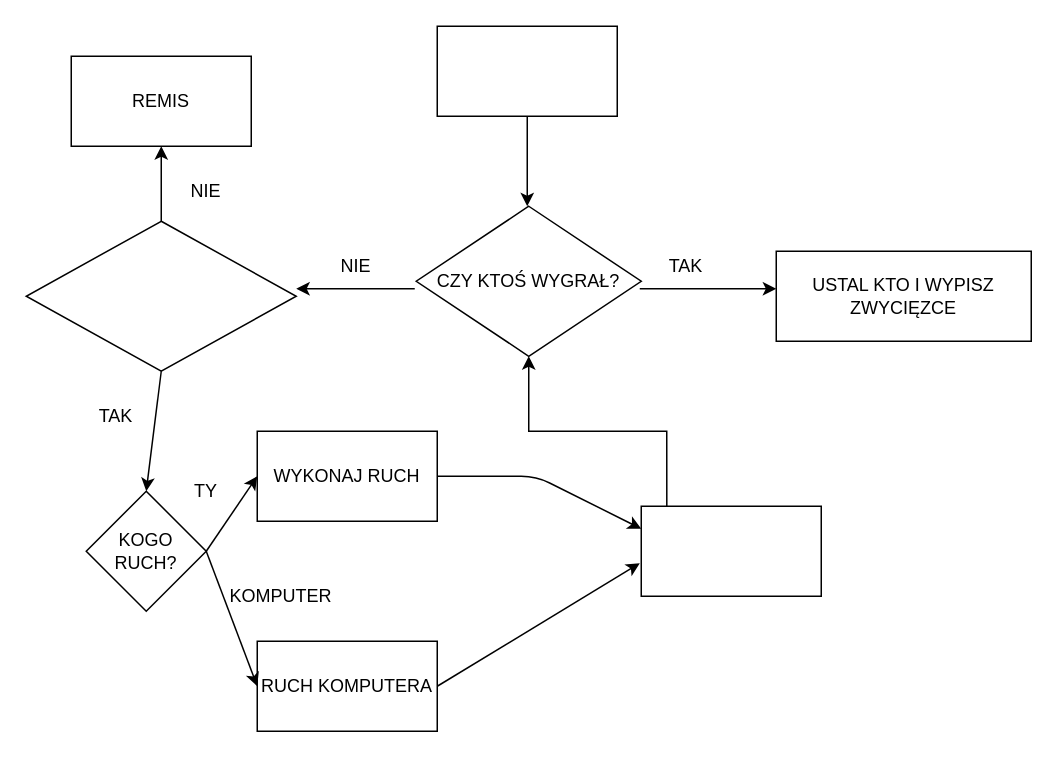
Image size: 1058x758. Some labels were removed from this diagram. The shapes that lost their labels are listed below. From the top down, each one's box as (x1, y1, x2, y2) in pixels, then its label:
(436, 25, 617, 116): WYŚWIETL PLANSZĘ
(25, 220, 296, 371): CZY NA PLANSZY JEST WOLNE POLE?
(640, 505, 821, 596): ZAKTUALIZUJ PLANSZĘ I LISTĘ WOLNYCH PÓL
